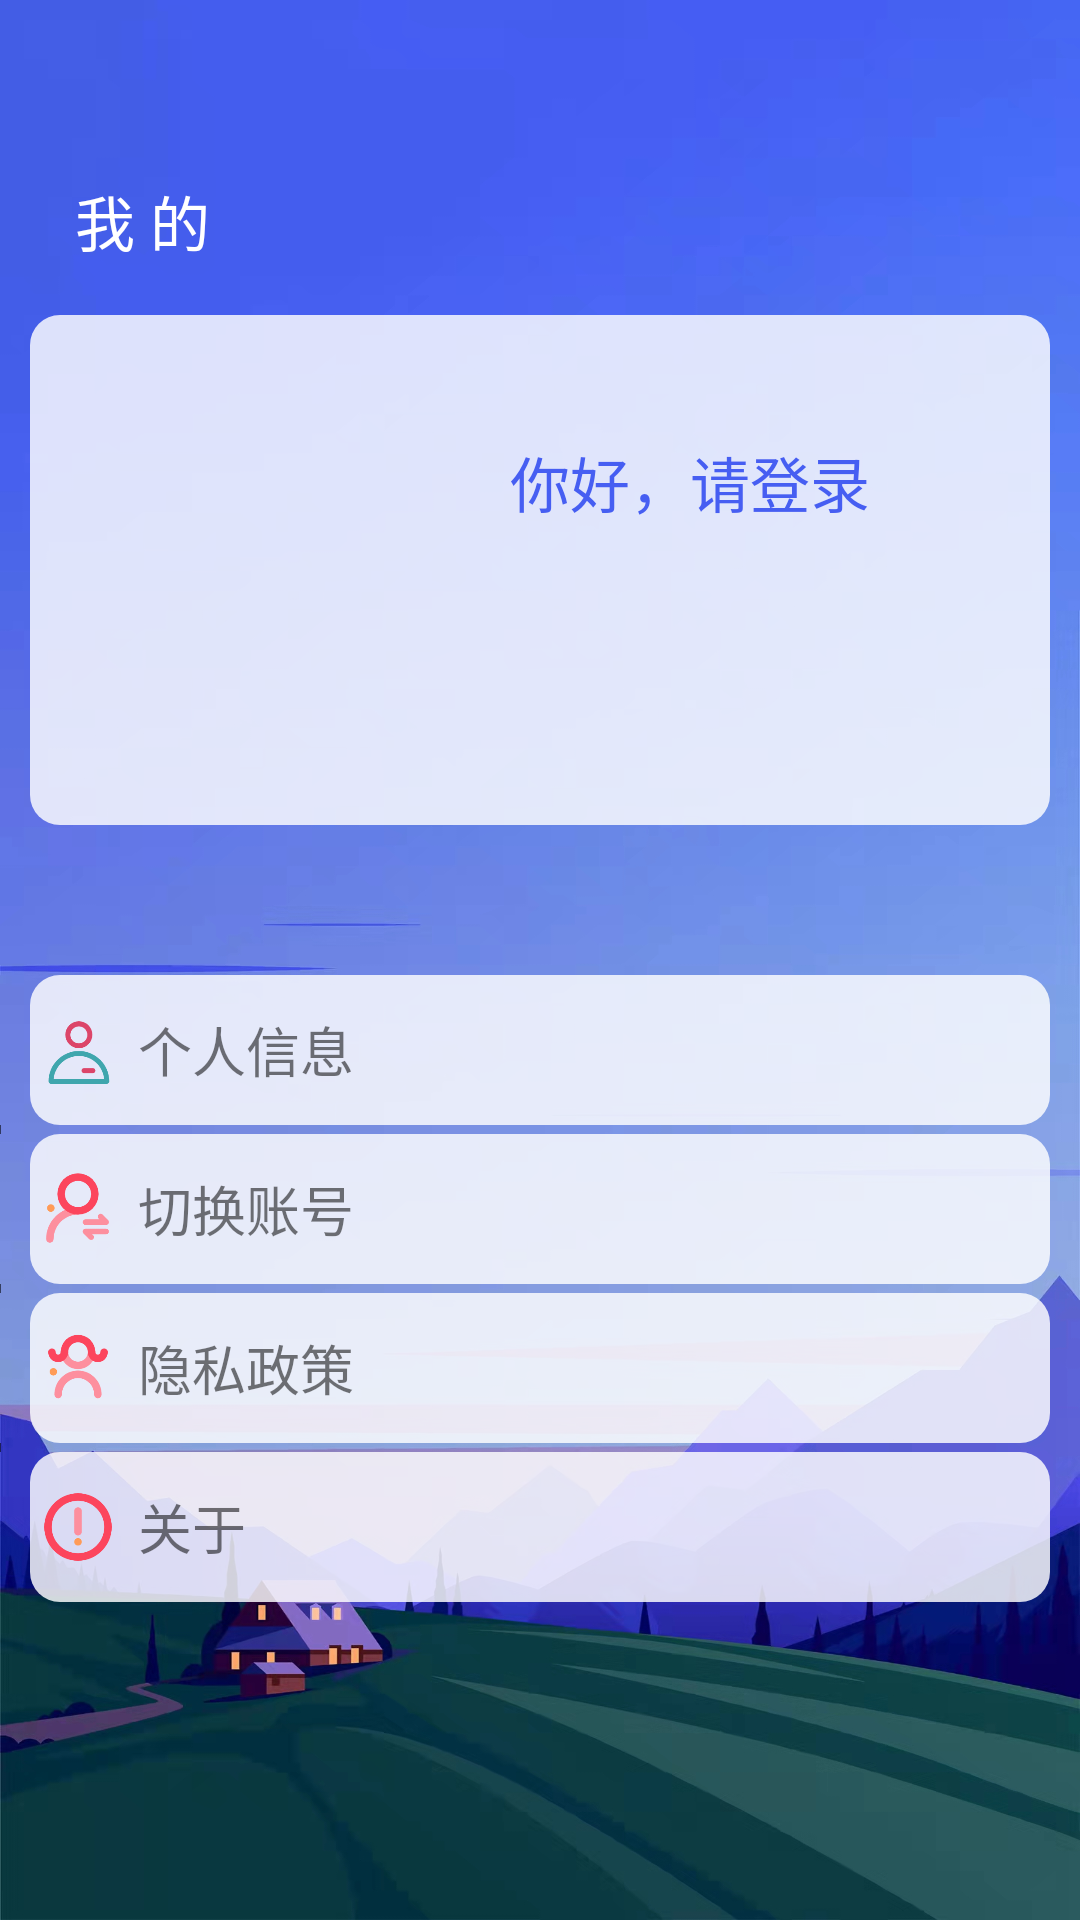

Named icons in this screenshot (1080*1920) and their centers, [x,y]:
yszc: [78,1366]
ywm: [78,1527]
